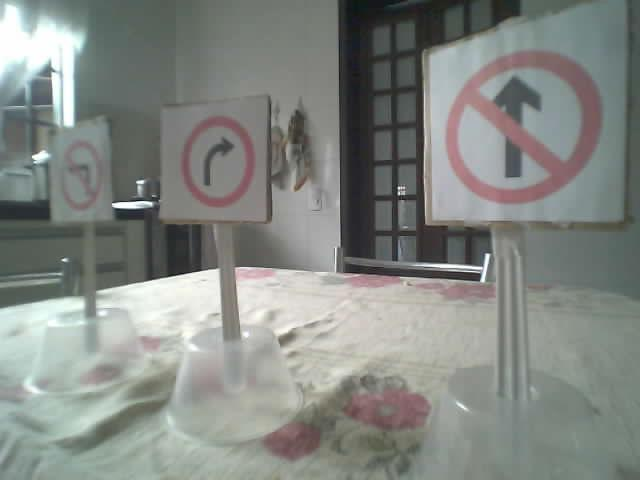R-25b_direita: (180, 115, 256, 207)
R-3_sentido-proibido: (443, 51, 601, 202)
R-4a_proibido-esquerda: (61, 139, 100, 208)
